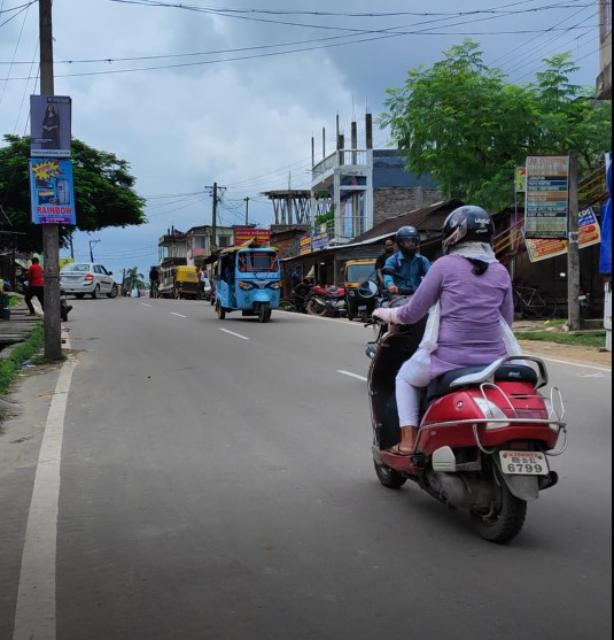licensePlate: (498, 451, 553, 477)
motorcycle: (369, 199, 568, 544)
withHelmet: (438, 202, 499, 258), (397, 224, 423, 256)
